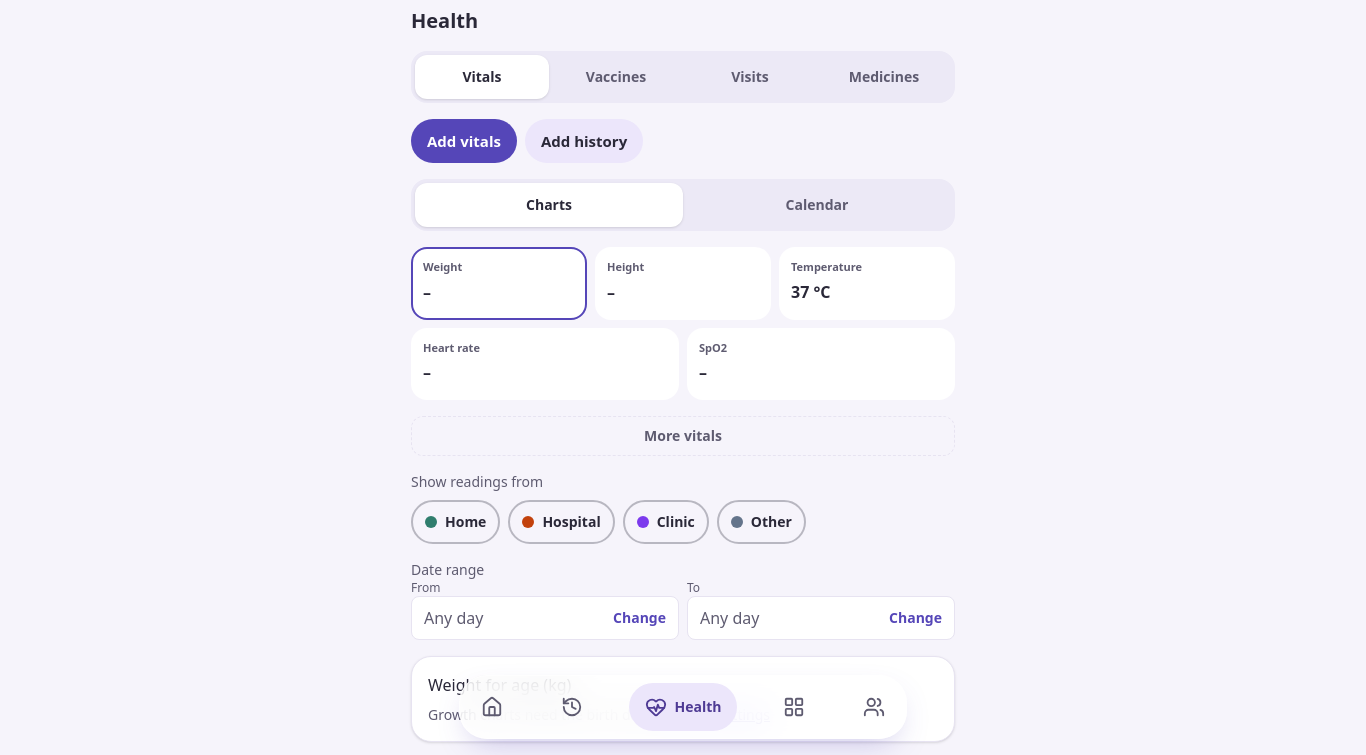
Test: editing an entry that has a head circumference opens More vitals by itself
Click the radio button labelled "Calendar" at {"x": 817, "y": 205}, box [683,183,951,227]
(page scrolled)
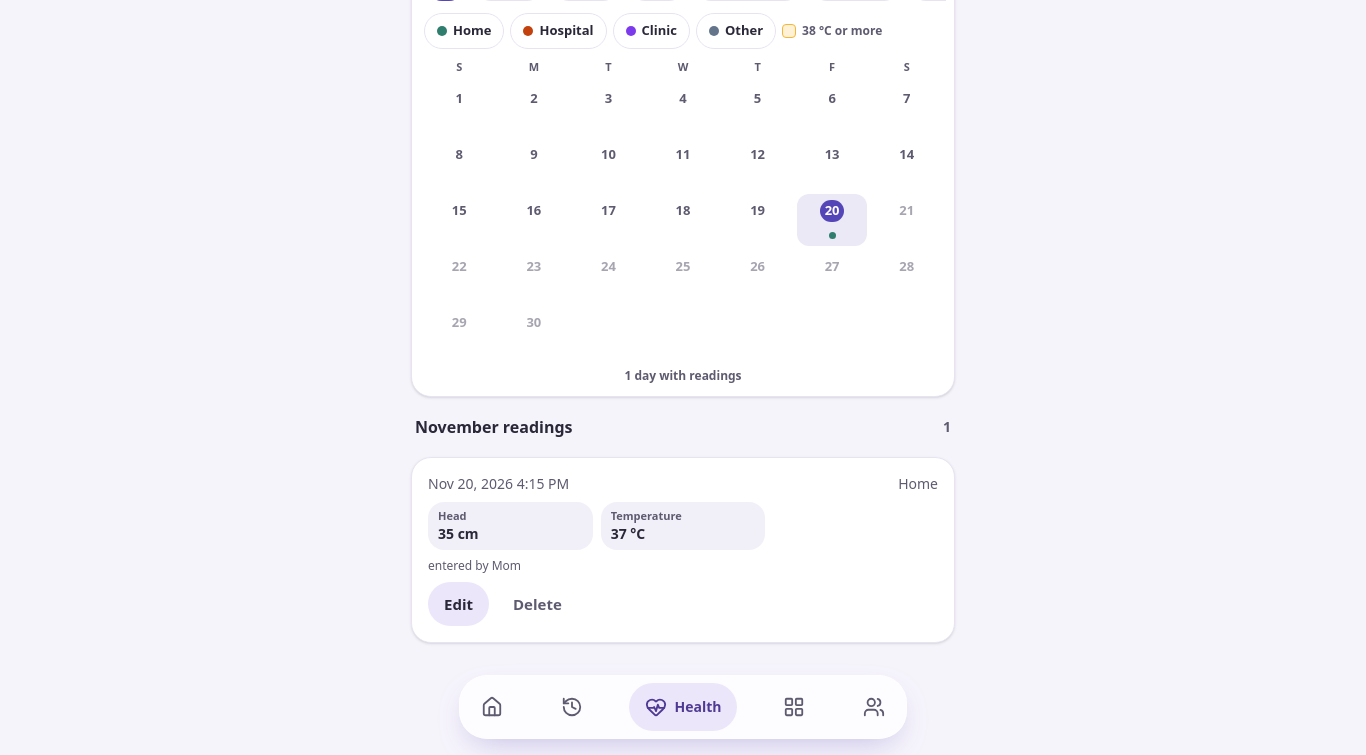
Click the button "Edit" at {"x": 458, "y": 604}, box [428,582,489,626]
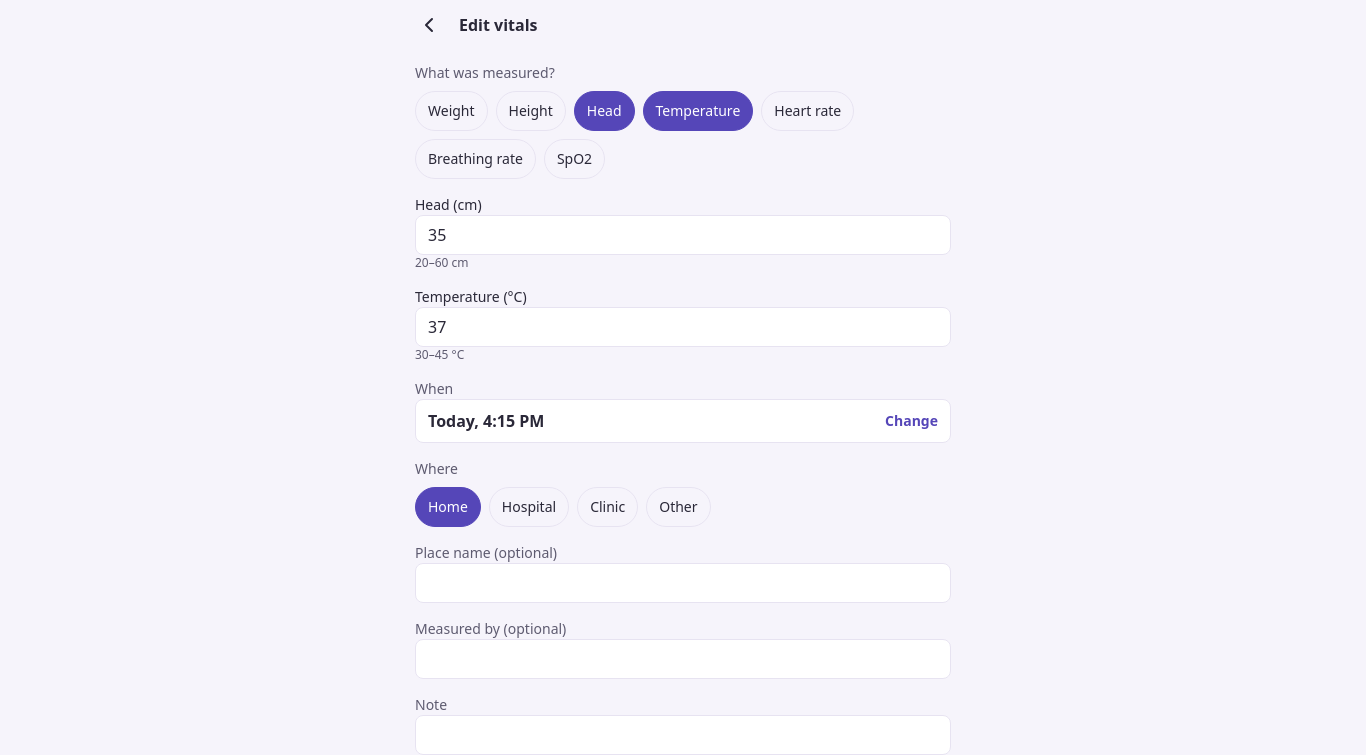
Expected: the button "Head" is shown, [574,91,634,131]
